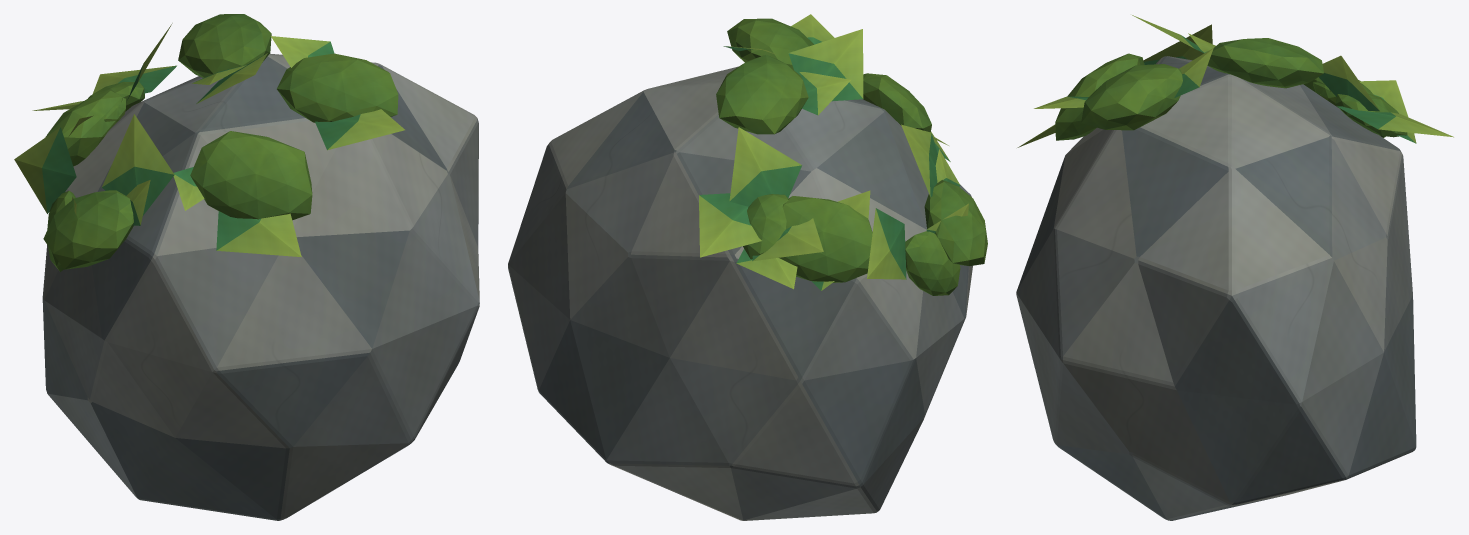
The model's file is forest_boulder.glb.
3 views of the same model, side by side, from view 1: azimuth 30°, elevation 25°; view 2: azimuth 150°, elevation 25°; view 3: azimuth 270°, elevation 25° (orthographic). The views are drawn at different scales.
Visible parts, largest first — view 1: Angular mossy forest boulder, Woodland shared moss cushion.007, Woodland shared moss cushion.006, Woodland shared moss cushion.002, Woodland shared moss cushion.001, Woodland shared curved ivy leaf.003, Woodland shared curved ivy leaf.014, Woodland shared curved ivy leaf.005, Woodland shared moss cushion.008, Woodland shared curved ivy leaf.011, Woodland shared curved ivy leaf.012, Woodland shared curved ivy leaf.010 (+4 smaller); view 2: Angular mossy forest boulder, Woodland shared moss cushion.008, Woodland shared moss cushion.001, Woodland shared moss cushion.002, Woodland shared curved ivy leaf.007, Woodland shared curved ivy leaf.001, Woodland shared curved ivy leaf.010, Woodland shared moss cushion.006, Woodland shared moss cushion.003, Woodland shared curved ivy leaf.005, Woodland shared moss cushion.007, Woodland shared moss cushion.005 (+5 smaller); view 3: Angular mossy forest boulder, Woodland shared moss cushion.006, Woodland shared moss cushion.001, Woodland shared moss cushion.007, Woodland shared curved ivy leaf.007, Woodland shared curved ivy leaf.010, Woodland shared moss cushion.005, Woodland shared curved ivy leaf.003, Woodland shared curved ivy leaf.012, Woodland shared curved ivy leaf.009.
Part boxes in pixels (<box>): Angular mossy forest boulder: <box>42,53,479,520</box>; Woodland shared moss cushion.007: <box>190,131,312,220</box>; Woodland shared moss cushion.006: <box>277,53,398,122</box>; Woodland shared moss cushion.002: <box>43,190,133,269</box>; Woodland shared moss cushion.001: <box>178,14,271,77</box>; Woodland shared curved ivy leaf.003: <box>102,114,174,215</box>; Woodland shared curved ivy leaf.014: <box>216,211,301,256</box>; Woodland shared curved ivy leaf.005: <box>14,127,76,213</box>; Woodland shared moss cushion.008: <box>46,90,122,166</box>; Woodland shared curved ivy leaf.011: <box>315,109,404,150</box>; Woodland shared curved ivy leaf.012: <box>271,36,334,67</box>; Woodland shared curved ivy leaf.010: <box>93,65,176,93</box>; Angular mossy forest boulder: <box>508,66,972,520</box>; Woodland shared moss cushion.008: <box>779,196,872,282</box>; Woodland shared moss cushion.001: <box>716,55,808,134</box>; Woodland shared moss cushion.002: <box>924,180,987,266</box>; Woodland shared curved ivy leaf.007: <box>729,127,801,206</box>; Woodland shared curved ivy leaf.001: <box>788,29,863,101</box>; Woodland shared curved ivy leaf.010: <box>699,193,761,257</box>; Woodland shared moss cushion.006: <box>727,18,813,69</box>; Woodland shared moss cushion.003: <box>905,231,960,295</box>; Woodland shared curved ivy leaf.005: <box>867,208,906,279</box>; Woodland shared moss cushion.007: <box>863,73,931,132</box>; Woodland shared moss cushion.005: <box>743,194,788,259</box>; Angular mossy forest boulder: <box>1016,56,1416,520</box>; Woodland shared moss cushion.006: <box>1081,64,1182,130</box>; Woodland shared moss cushion.001: <box>1207,38,1323,88</box>; Woodland shared moss cushion.007: <box>1055,53,1144,140</box>; Woodland shared curved ivy leaf.007: <box>1319,55,1379,111</box>; Woodland shared curved ivy leaf.010: <box>1337,106,1453,137</box>; Woodland shared moss cushion.005: <box>1335,93,1407,137</box>; Woodland shared curved ivy leaf.003: <box>1143,24,1212,64</box>; Woodland shared curved ivy leaf.012: <box>1174,48,1213,97</box>; Woodland shared curved ivy leaf.009: <box>1359,80,1408,116</box>.
Size of the model in its own units: 1.08 by 1.07 by 0.9189.
6 materials, 6 textured.
